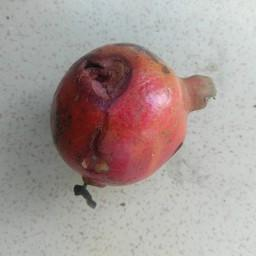Bad_pomegranate: (50, 41, 215, 210)
